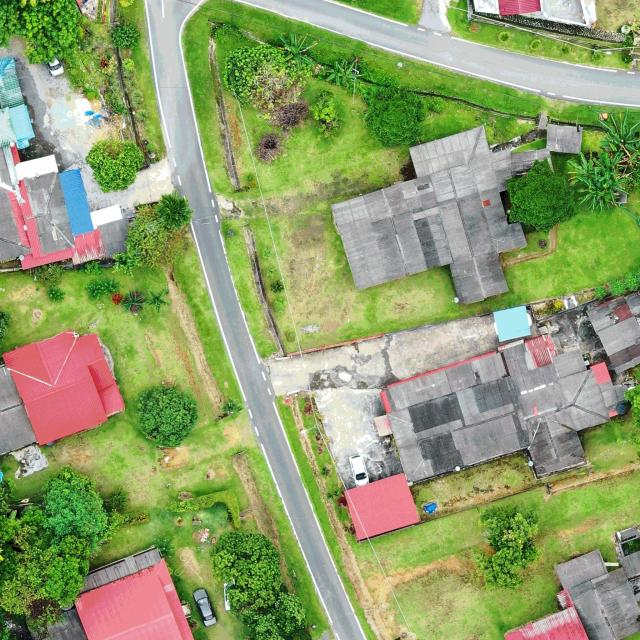Tree: (0, 504, 92, 616), (222, 42, 314, 106), (210, 529, 283, 606), (502, 158, 574, 233), (477, 505, 541, 589), (42, 464, 108, 537), (359, 86, 428, 148), (136, 384, 199, 449), (238, 589, 308, 640), (84, 138, 146, 194), (125, 202, 173, 266), (595, 108, 640, 158), (576, 176, 629, 214), (153, 189, 194, 232), (278, 29, 317, 69), (308, 94, 343, 138), (566, 151, 599, 188), (323, 60, 363, 87), (109, 21, 140, 51), (592, 151, 624, 180), (147, 288, 170, 313)
